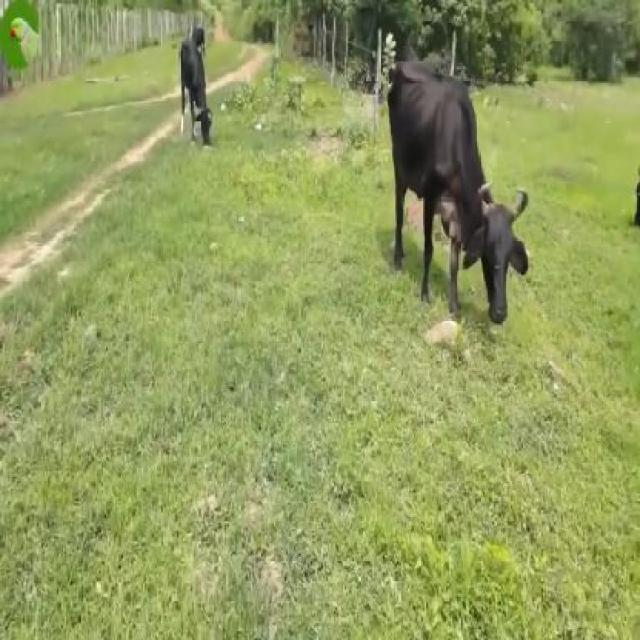Cow: (386, 60, 531, 326)
